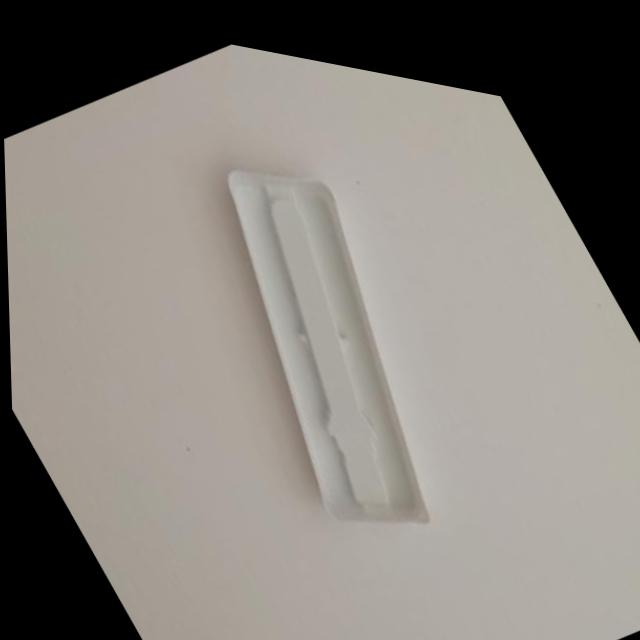plastic: (118, 89, 520, 595)
